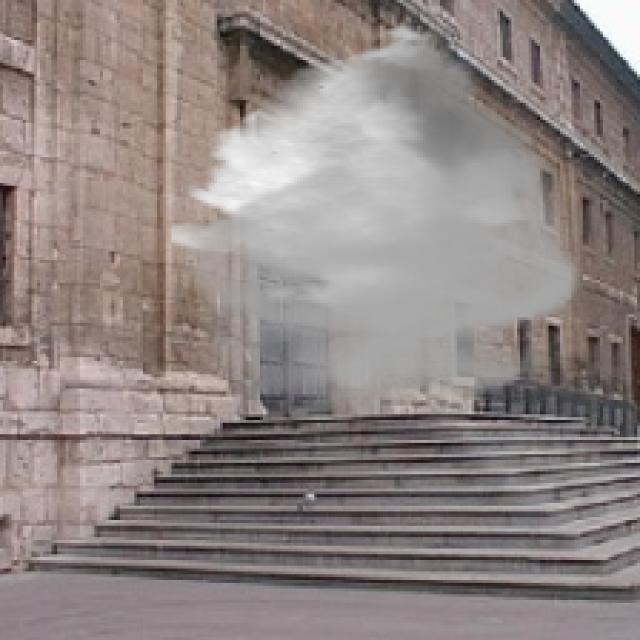smoke: (171, 20, 586, 420)
